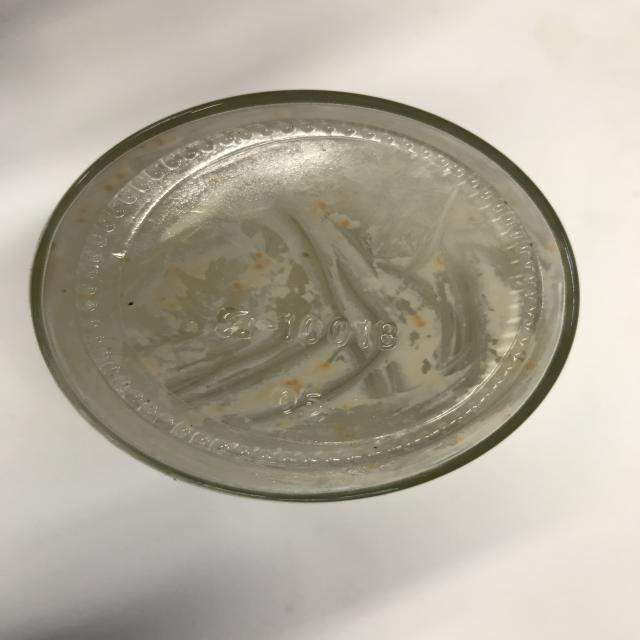glass: (28, 90, 567, 494)
